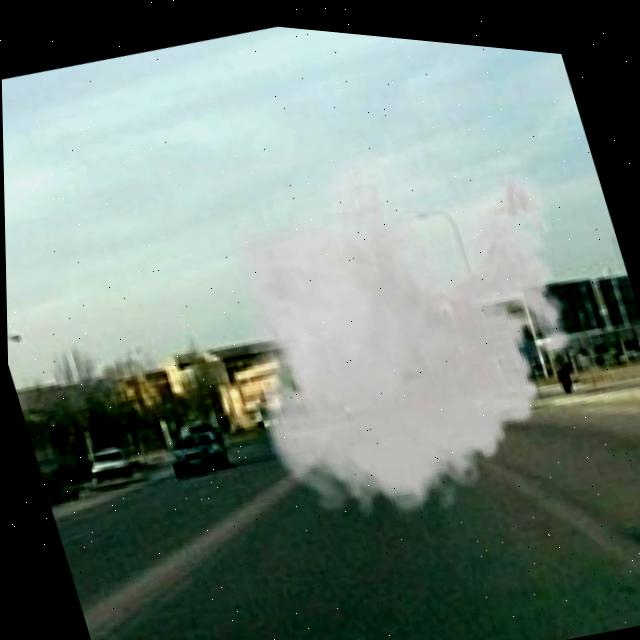Smoke: (177, 98, 635, 542)
